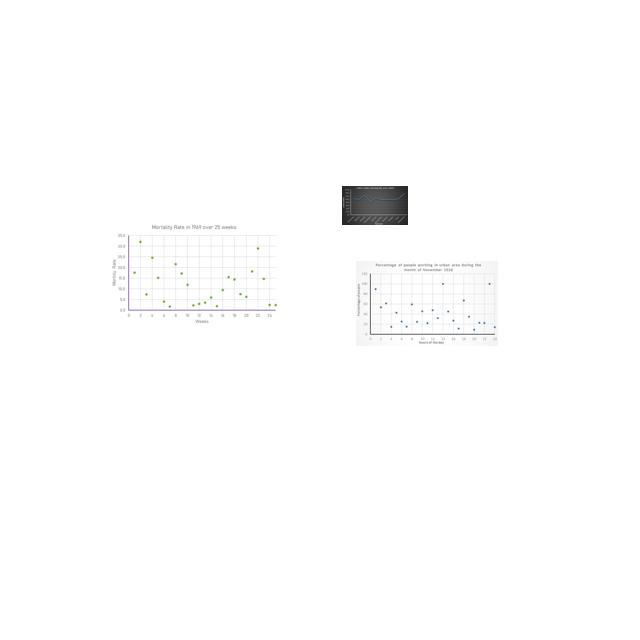Graph: (109, 223, 282, 326), (356, 261, 498, 346), (342, 186, 408, 225)
